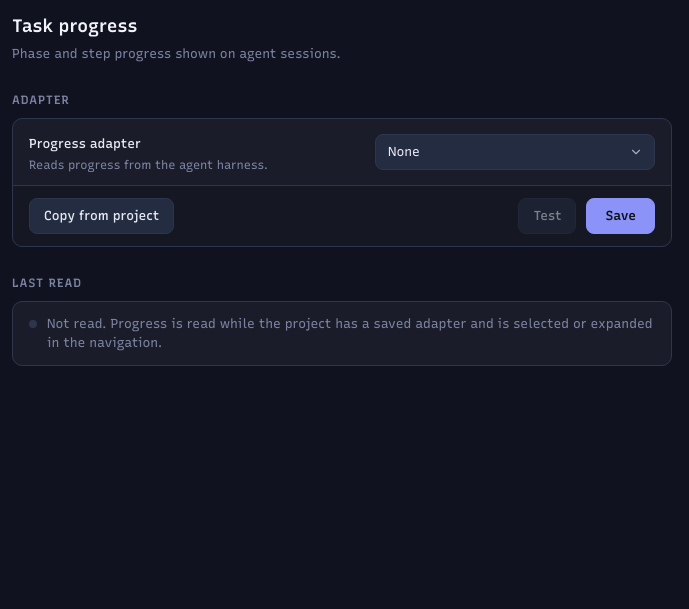
it: TaskProgressSettings › ignores a late Test result after another adapter is selected
Step 1. Select "Example · example" in the dropdown with test id "settings-task-progress-adapter-select" → (515, 152), box [375,134,655,170]
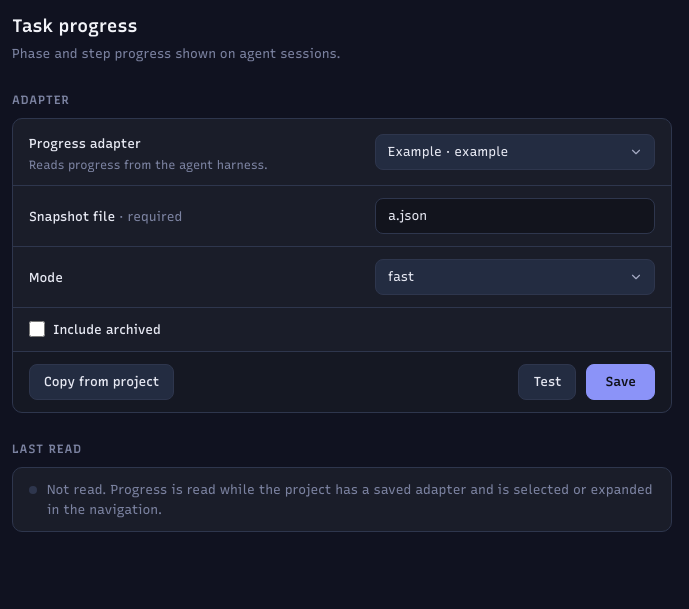
Step 2. Click the button with test id "settings-task-progress-test" → (548, 382), box [518,364,576,400]
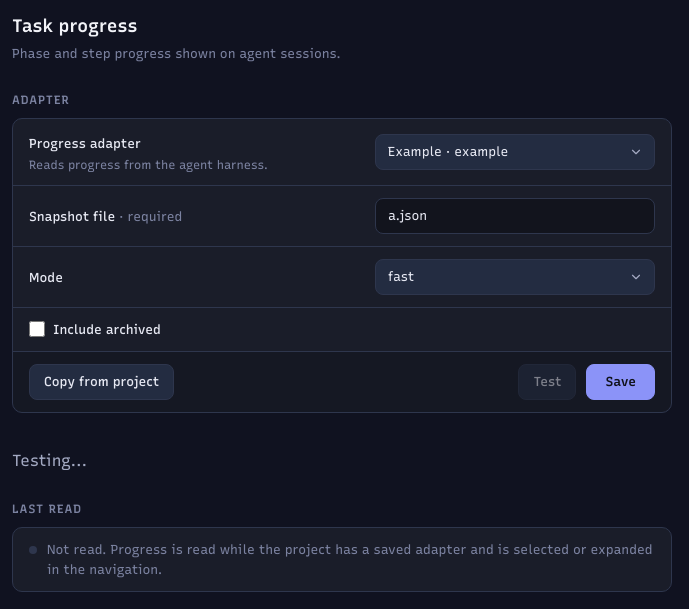
expect the message with test id "settings-task-progress-test-result" reads "Testing...": met, box [12,451,87,470]
Step 3. Select "Other · other" in the dropdown with test id "settings-task-progress-adapter-select" → (515, 152), box [375,134,655,170]
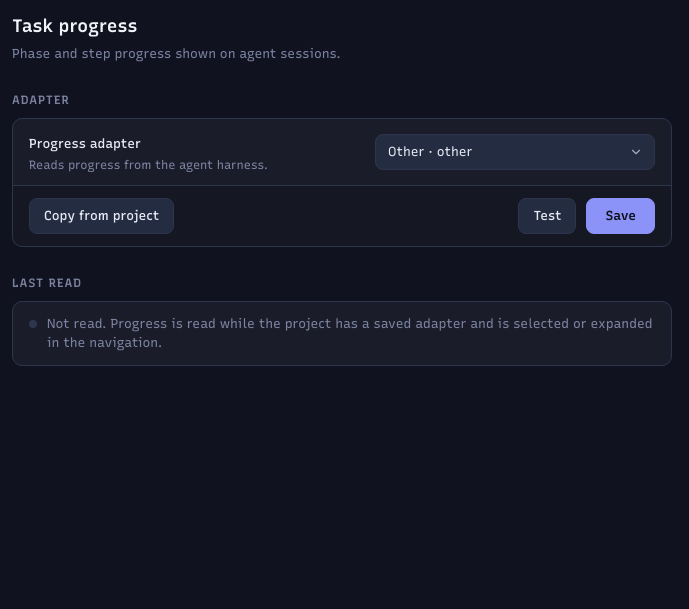
expect the message with test id "settings-task-progress-test-result" is gone: met
